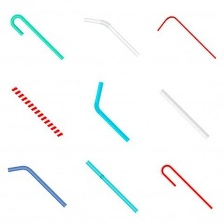drinking_straw: (82, 157, 143, 217), (7, 82, 68, 141), (154, 83, 214, 142), (5, 9, 69, 64), (152, 12, 221, 63), (3, 160, 71, 210), (89, 77, 135, 145), (156, 160, 216, 212), (78, 13, 142, 60)
